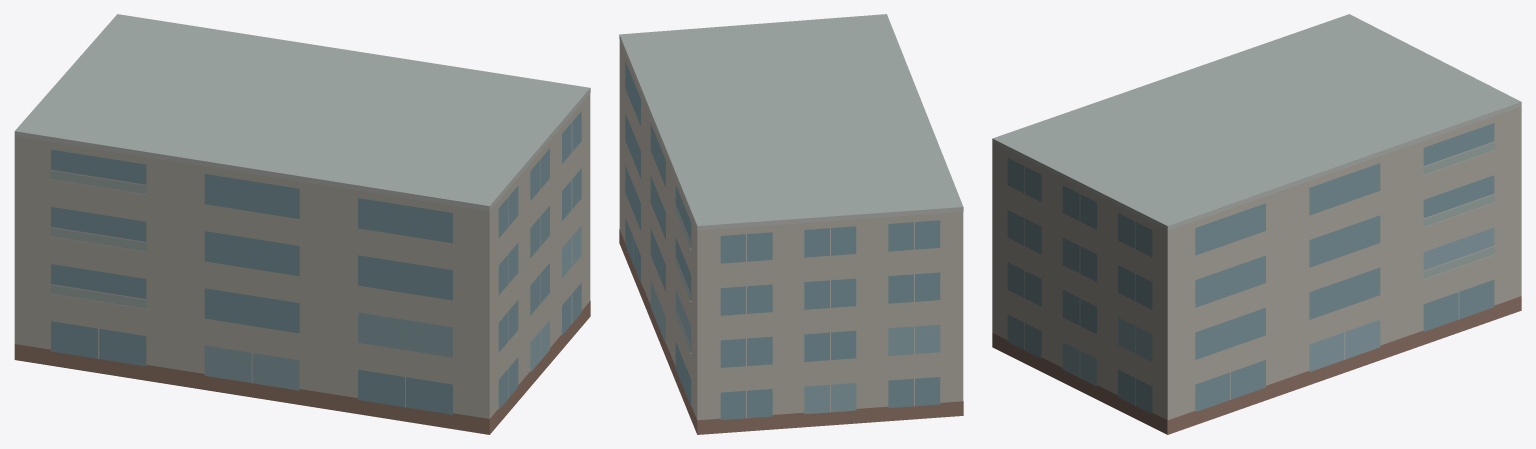
The model's file is survey-upis-32943852.glb.
3 views of the same model, side by side, from view 1: azimuth 30°, elevation 25°; view 2: azimuth 150°, elevation 25°; view 3: azimuth 270°, elevation 25° (orthographic). The views are drawn at different scales.
Parts seen in each view (by area): view 1: survey-upis-32943852.tmp; view 2: survey-upis-32943852.tmp; view 3: survey-upis-32943852.tmp.
Part boxes in pixels (bbox=[...]): survey-upis-32943852.tmp: bbox=[14, 14, 590, 434]; survey-upis-32943852.tmp: bbox=[619, 14, 963, 434]; survey-upis-32943852.tmp: bbox=[992, 14, 1521, 434].
Bounding box in the file's own units: 24.11 × 11.06 × 25.42.
